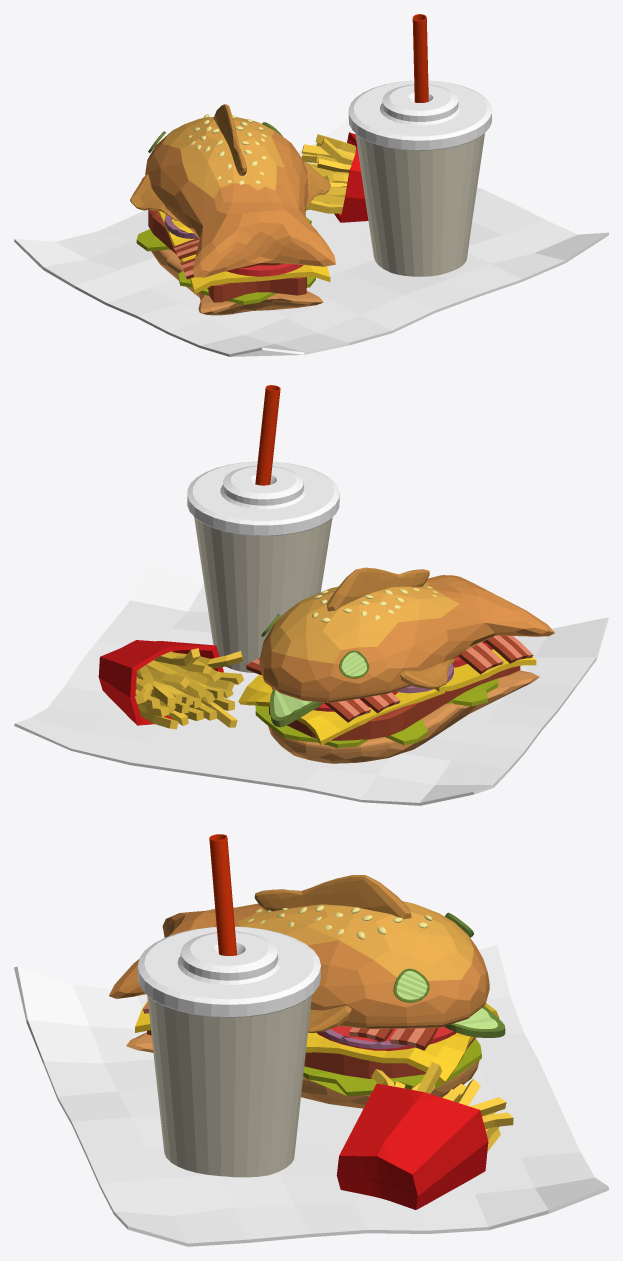
3 renders of one model, top to bottom at view 1: azimuth 30°, elevation 25°; view 2: azimuth 150°, elevation 25°; view 3: azimuth 270°, elevation 25°, orthographic. The views are drawn at different scales.
Visible parts, largest first — view 1: Cube037, TopBun, Cylinder009, Cylinder010, Cube034, BottomBun, meat, Cube001, Cube007, Cylinder011, lettuce, Cube002 (+4 smaller); view 2: Cube037, TopBun, Cylinder009, Cylinder010, Cube034, BottomBun, Cube007, Cube, meat, lettuce, Cube002, Cylinder011 (+8 smaller); view 3: Cube037, Cylinder009, TopBun, Cube007, Cylinder010, Cube002, Cube, Cube034, Cylinder011, lettuce, BottomBun, meat (+7 smaller).
Boxes of the visible parts, x1,y1,x2,y2 form: Cube037: (14,119,608,356); TopBun: (145,117,335,277); Cylinder009: (355,133,484,276); Cylinder010: (348,80,491,150); Cube034: (301,134,355,213); BottomBun: (151,249,323,315); meat: (148,210,306,302); Cube001: (168,226,330,294); Cube007: (334,132,368,222); Cylinder011: (412,14,428,102); lettuce: (136,217,315,304); Cube002: (213,104,246,175); Cube037: (14,562,608,805); TopBun: (259,575,554,702); Cylinder009: (194,517,332,672); Cylinder010: (187,461,339,535); Cube034: (135,648,243,729); BottomBun: (268,670,539,763); Cube007: (98,640,223,725); Cube: (238,674,444,745); meat: (269,666,520,740); lettuce: (255,678,498,748); Cube002: (326,567,429,611); Cylinder011: (255,385,280,485); Cube037: (14,944,608,1246); Cylinder009: (147,995,311,1177); TopBun: (109,901,489,1028); Cube007: (336,1083,488,1209); Cylinder010: (137,926,320,1017); Cube002: (254,875,411,919); Cube: (306,1003,499,1085); Cube034: (371,1062,513,1151); Cylinder011: (209,834,237,955); lettuce: (303,1038,481,1095); BottomBun: (126,1032,479,1108); meat: (147,1030,475,1078).
Size of the model in its own units: 11.03 by 5.93 by 9.78.
